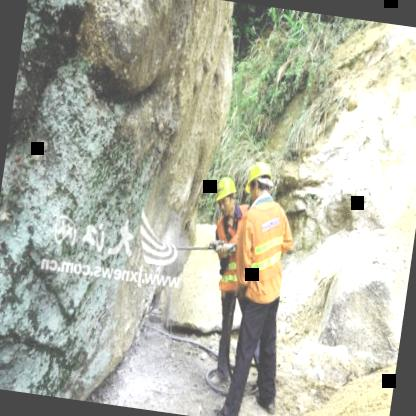helmet: (240, 160, 275, 202), (209, 172, 240, 218)
